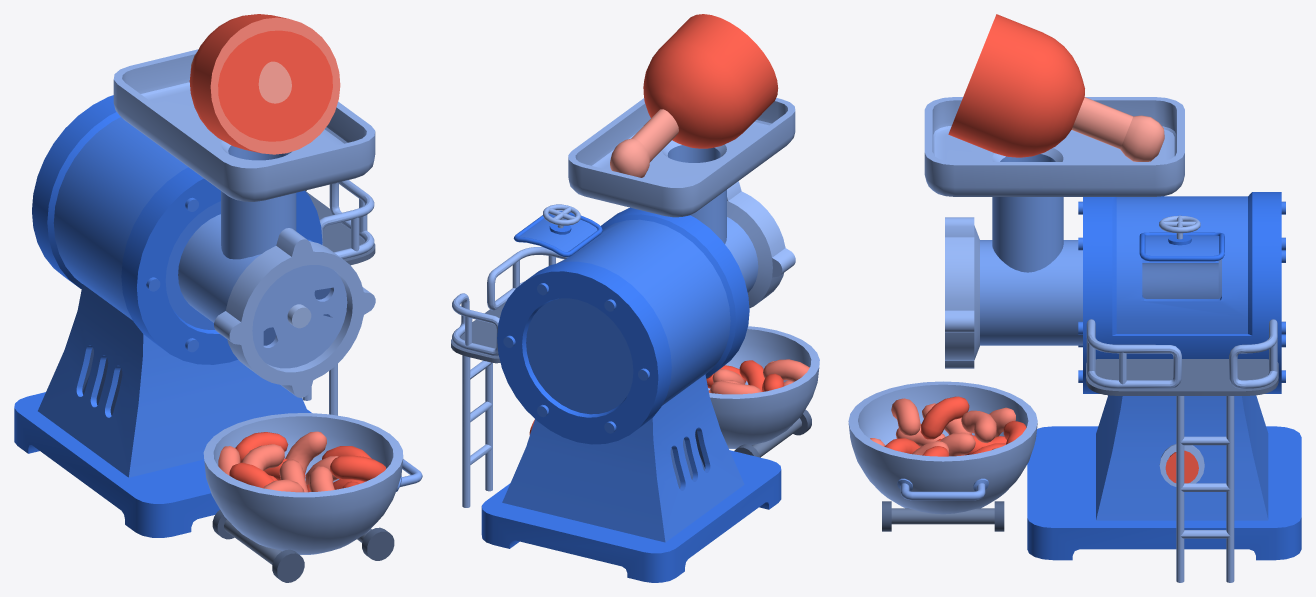
The model's file is Grinder.fbx.
3 views of the same model, side by side, from view 1: azimuth 30°, elevation 25°; view 2: azimuth 150°, elevation 25°; view 3: azimuth 270°, elevation 25° (orthographic). The views are drawn at different scales.
Visible parts, largest first — view 1: Grinder, Bowl, Meat; view 2: Grinder, Meat, Bowl, Hatch; view 3: Grinder, Bowl, Meat, Hatch, Button.
Boxes of the visible parts, x1,y1,x2,y2 form: Grinder: (14,49,375,537); Bowl: (203,413,422,582); Meat: (189,14,340,154); Grinder: (451,98,795,582); Meat: (610,14,778,177); Bowl: (706,326,819,457); Hatch: (513,204,602,257); Grinder: (924,97,1301,582); Bowl: (848,381,1037,531); Meat: (948,14,1164,161); Hatch: (1139,215,1224,261); Button: (1165,450,1198,483).
Size of the model in its own units: 6.87 by 12.47 by 10.56.
